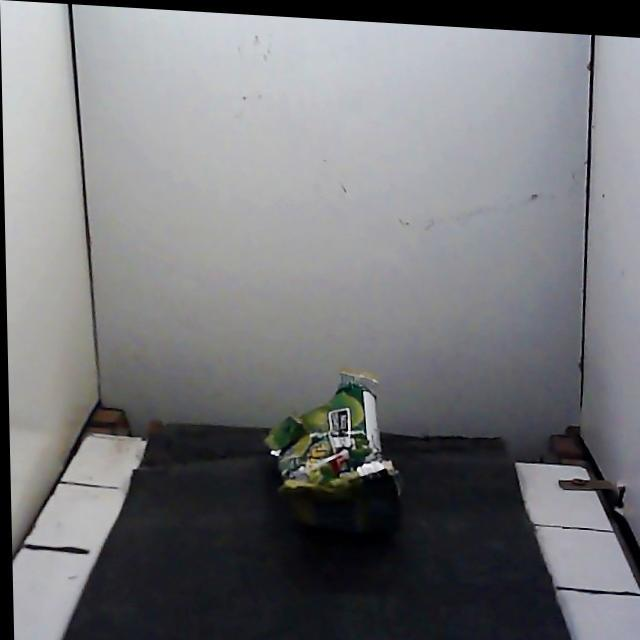plastico: (265, 372, 400, 531)
